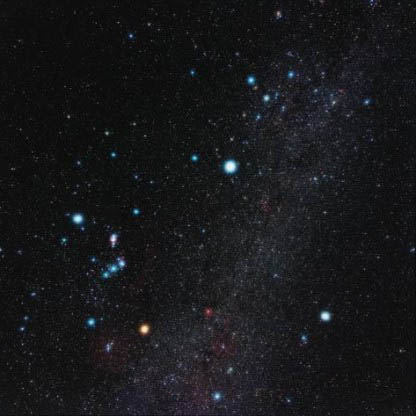Orion: (125, 199, 145, 222), (69, 207, 85, 232), (80, 315, 101, 332), (137, 318, 152, 340), (120, 250, 133, 273), (95, 262, 108, 284), (107, 257, 118, 274)
